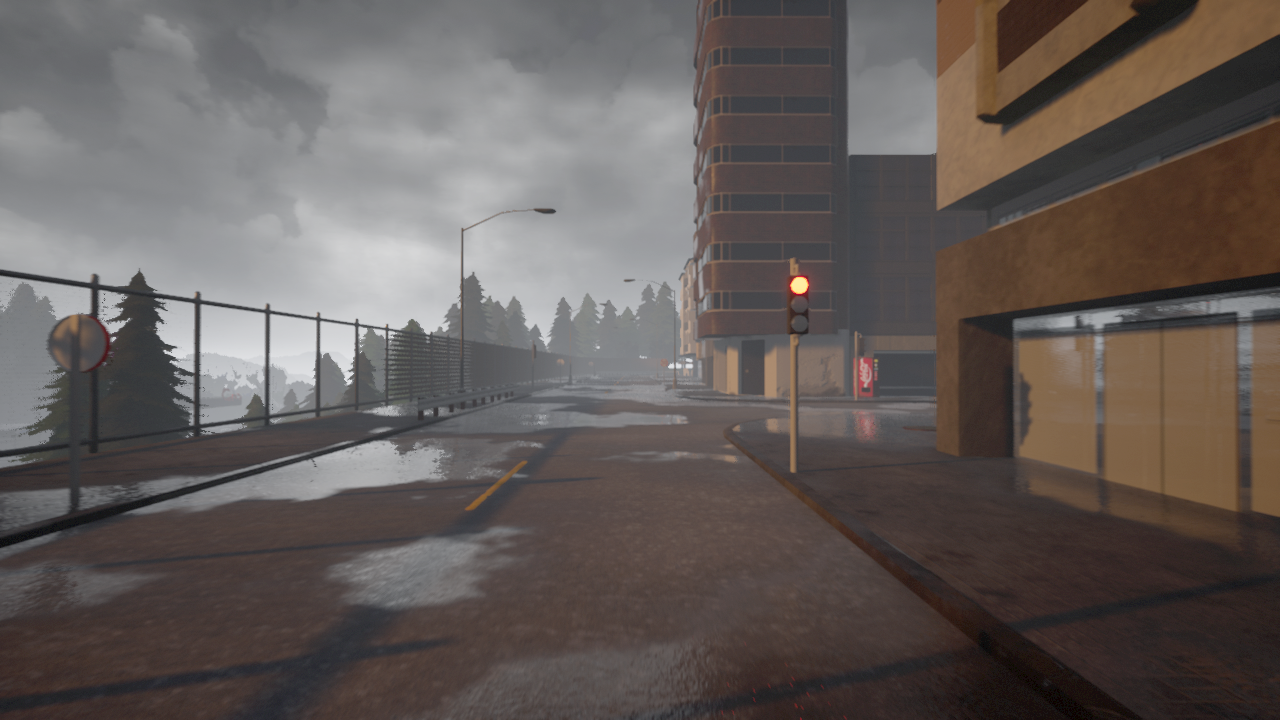red: (786, 273, 810, 333)
